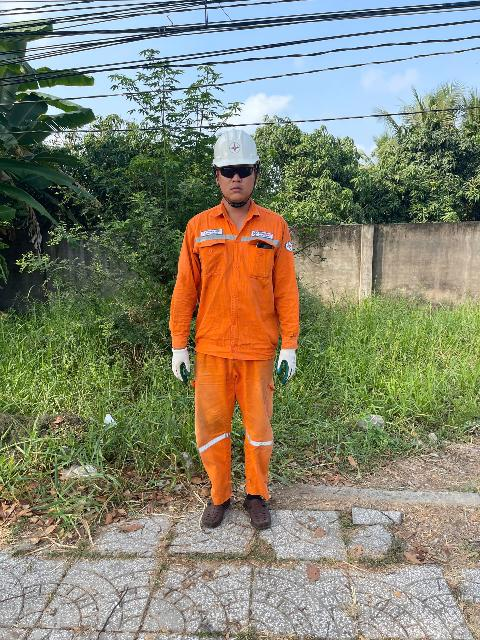gloves: (169, 338, 198, 388), (278, 339, 303, 387)
helmet: (208, 129, 267, 168)
shoes: (239, 486, 274, 531), (196, 496, 231, 534)
